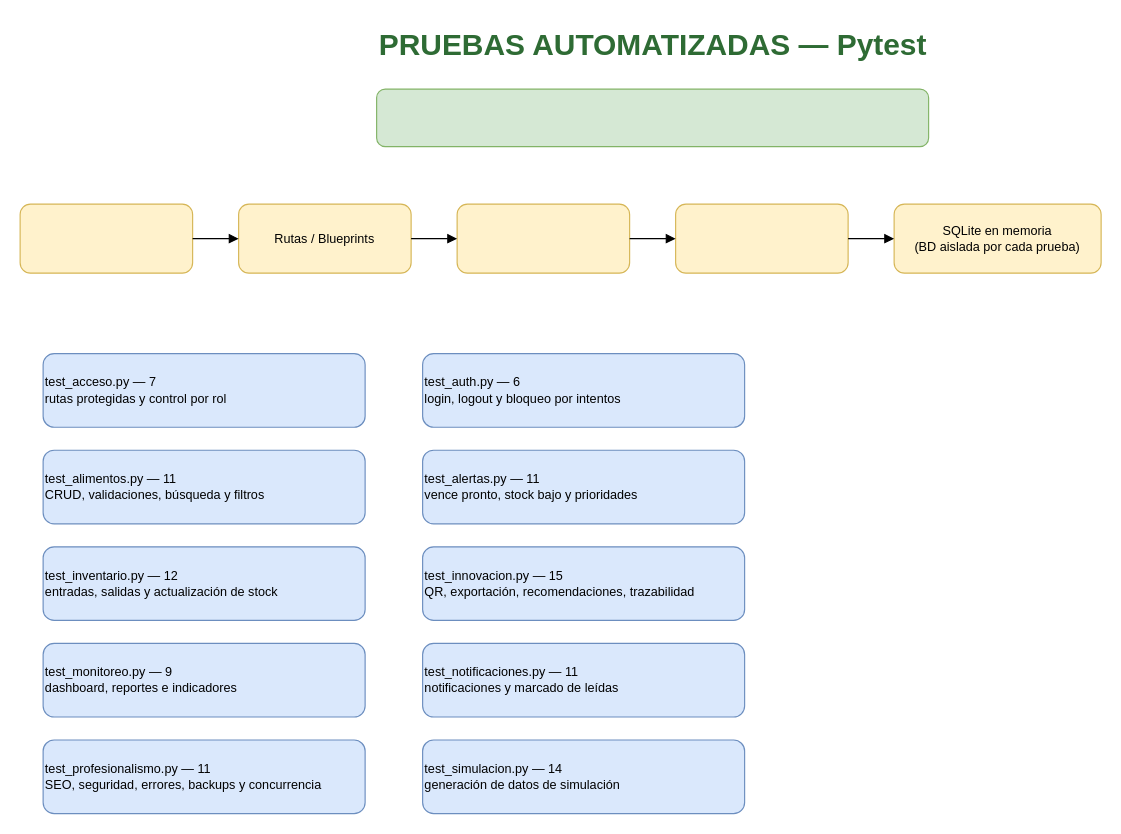
Image size: 1121x834. Some labels were removed from this diagram. Here are the shapes that lost their labels. From the top down, the centre of each, then its label:
At [652,117]: "Resultado: 107 / 107 pruebas aprobadas (100%)".
At [106,238]: "Cliente de prueba (test client)".
At [543,238]: "Servicios".
At [761,238]: "ORM (SQLAlchemy)".
